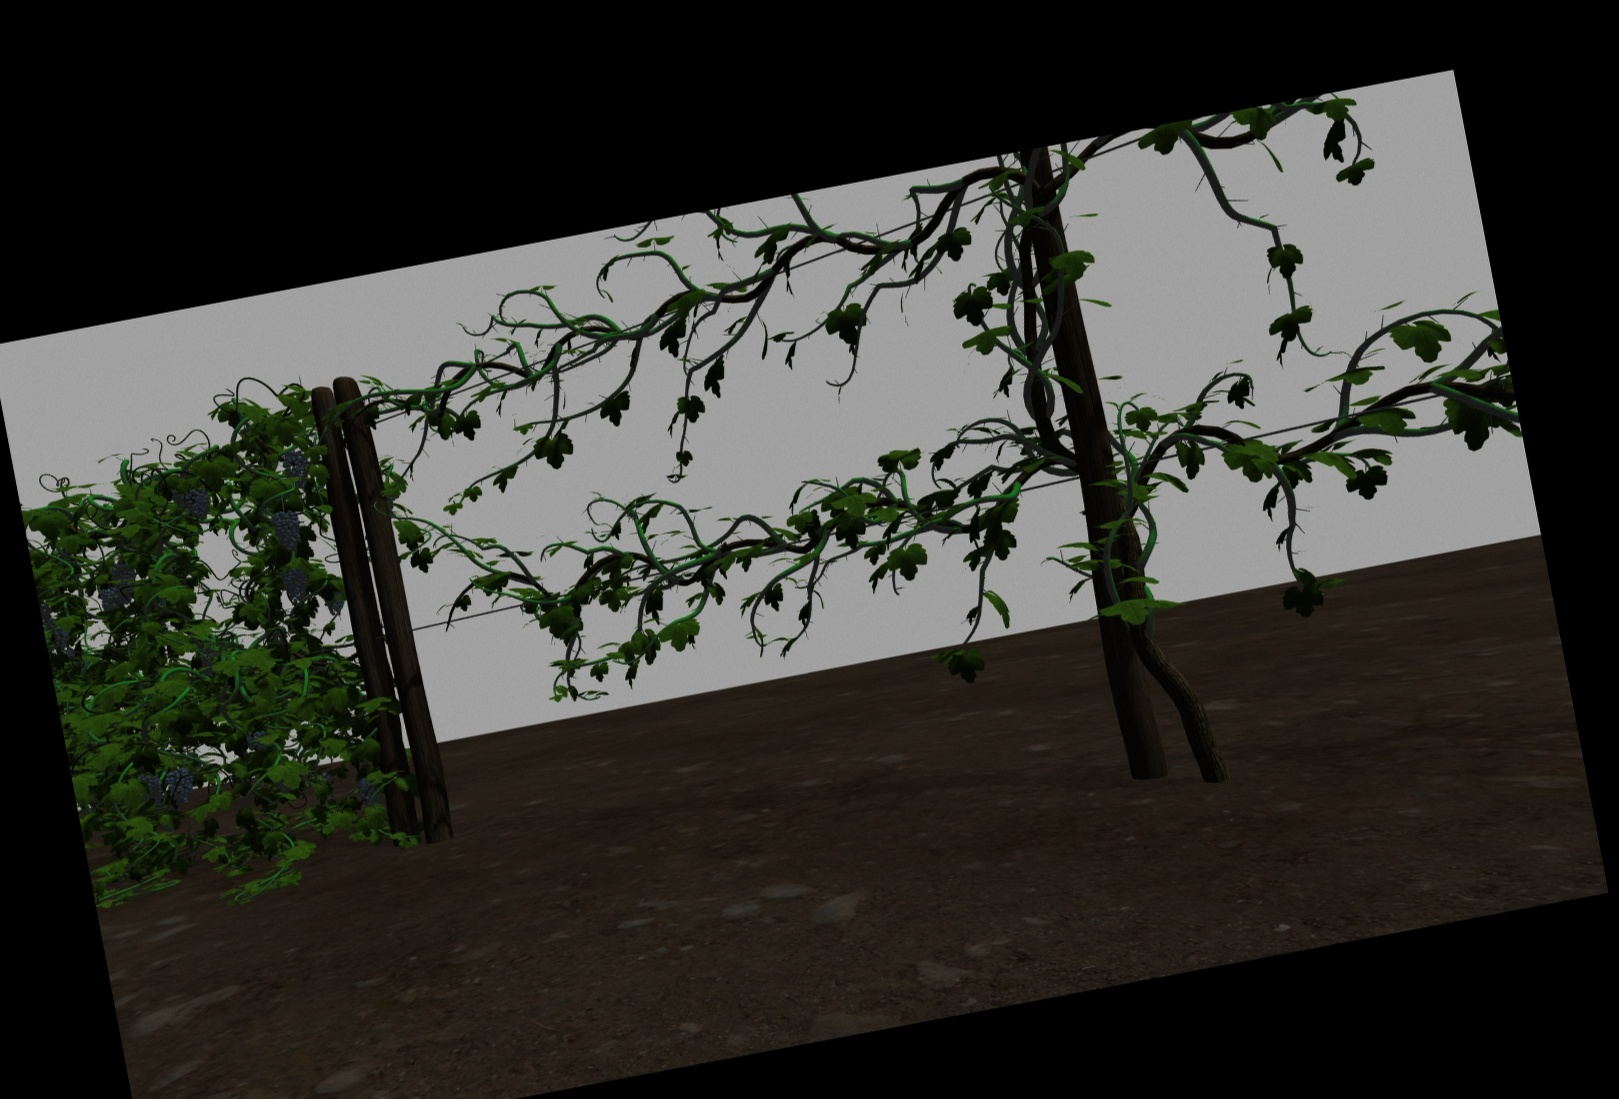grape: (282, 446, 312, 489), (272, 509, 302, 551), (280, 564, 310, 603), (179, 484, 211, 520), (166, 768, 195, 803), (112, 563, 139, 601), (144, 769, 164, 802), (356, 776, 375, 805), (52, 619, 69, 648), (98, 588, 118, 610)
